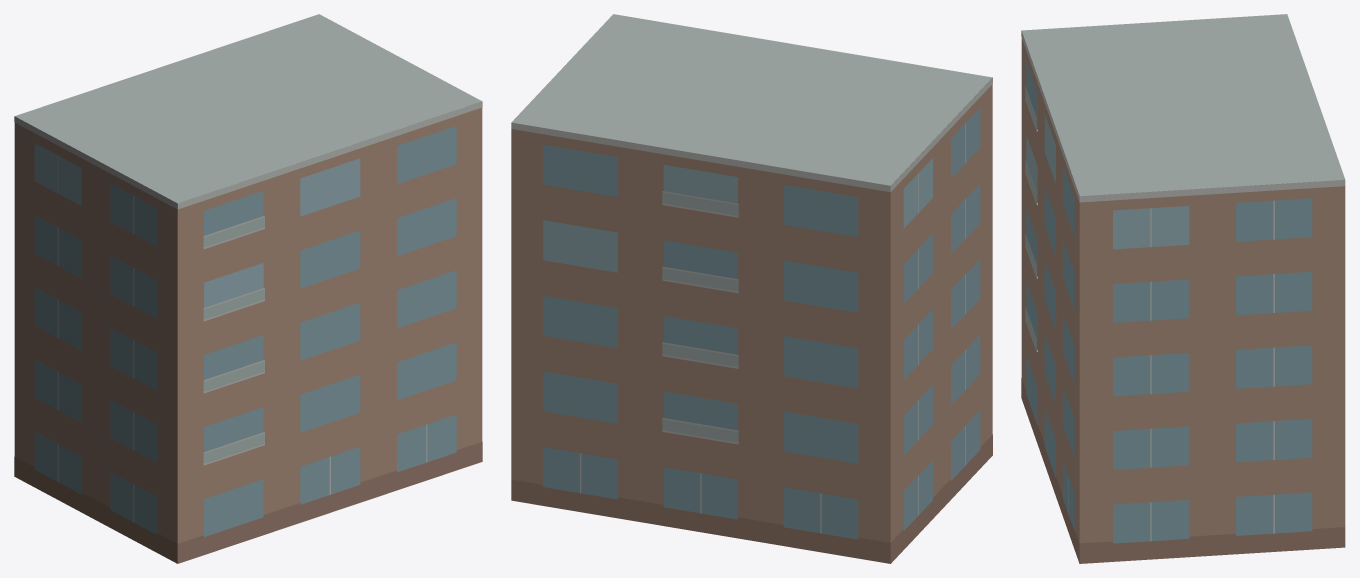
Rendered from survey-upis-32868060.glb.
3 renders of one model, left to right at view 1: azimuth 30°, elevation 25°; view 2: azimuth 150°, elevation 25°; view 3: azimuth 270°, elevation 25°, orthographic. The views are drawn at different scales.
Parts seen in each view (by area): view 1: survey-upis-32868060.tmp; view 2: survey-upis-32868060.tmp; view 3: survey-upis-32868060.tmp.
Boxes of the visible parts, <box> form: survey-upis-32868060.tmp: <box>14,14,482,563</box>; survey-upis-32868060.tmp: <box>511,14,992,563</box>; survey-upis-32868060.tmp: <box>1021,14,1345,563</box>.
Size of the model in its own units: 15.32 by 14.4 by 11.51.
